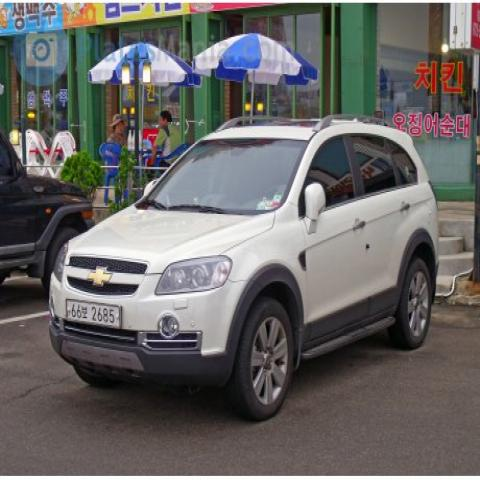LP: (58, 287, 132, 337)
